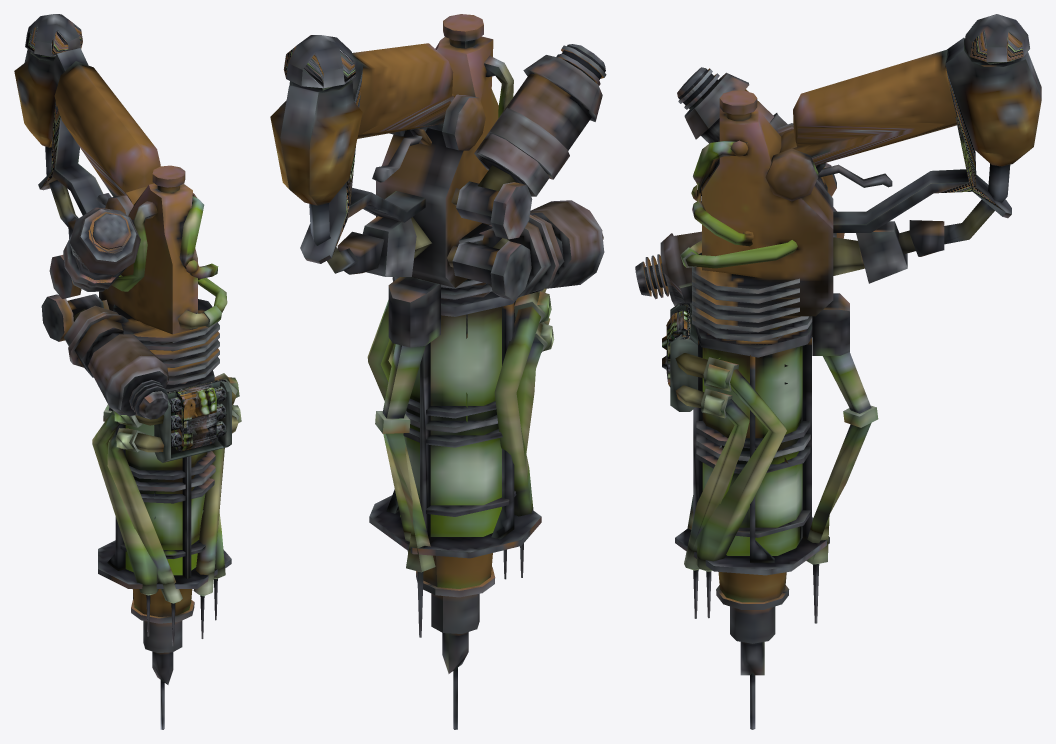
Rendered from PlasmaP.fbx.
3 views of the same model, side by side, from view 1: azimuth 30°, elevation 25°; view 2: azimuth 150°, elevation 25°; view 3: azimuth 270°, elevation 25° (orthographic). The views are drawn at different scales.
Parts seen in each view (by area): view 1: plasmapistol.001; view 2: plasmapistol.001; view 3: plasmapistol.001.
Boxes of the visible parts, x1=… form: plasmapistol.001: x1=14, y1=14, x2=241, y2=729; plasmapistol.001: x1=270, y1=14, x2=606, y2=729; plasmapistol.001: x1=635, y1=14, x2=1041, y2=729.
Size of the model in its own units: 0.0905 by 0.3384 by 0.1745.
